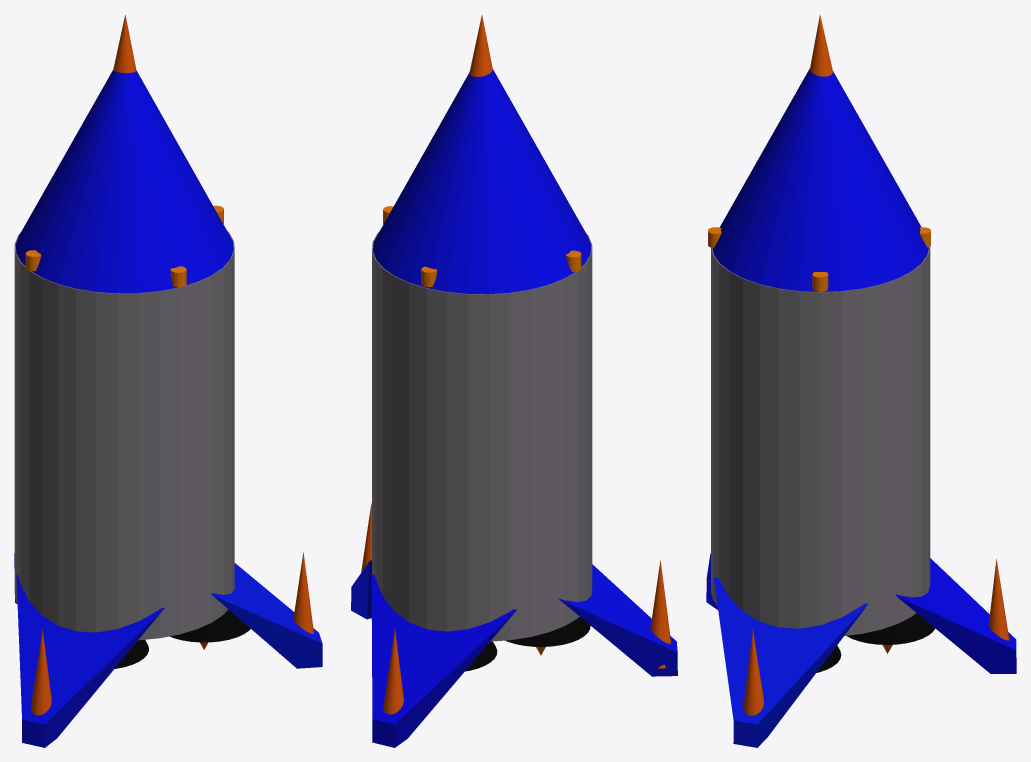
File: tankRocketNCL.gltf
The picture shows the model from 3 angles, left to right: view 1: azimuth 30°, elevation 25°; view 2: azimuth 150°, elevation 25°; view 3: azimuth 270°, elevation 25°; orthographic projection.
Visible parts, largest first — view 1: Cylinder.002; view 2: Cylinder.002; view 3: Cylinder.002.
Boxes of the visible parts, x1,y1,x2,y2 form: Cylinder.002: (14, 15, 322, 747); Cylinder.002: (351, 15, 677, 747); Cylinder.002: (706, 14, 1016, 747).
Bounding box in the file's own units: 3.26 × 6.59 × 2.83.
